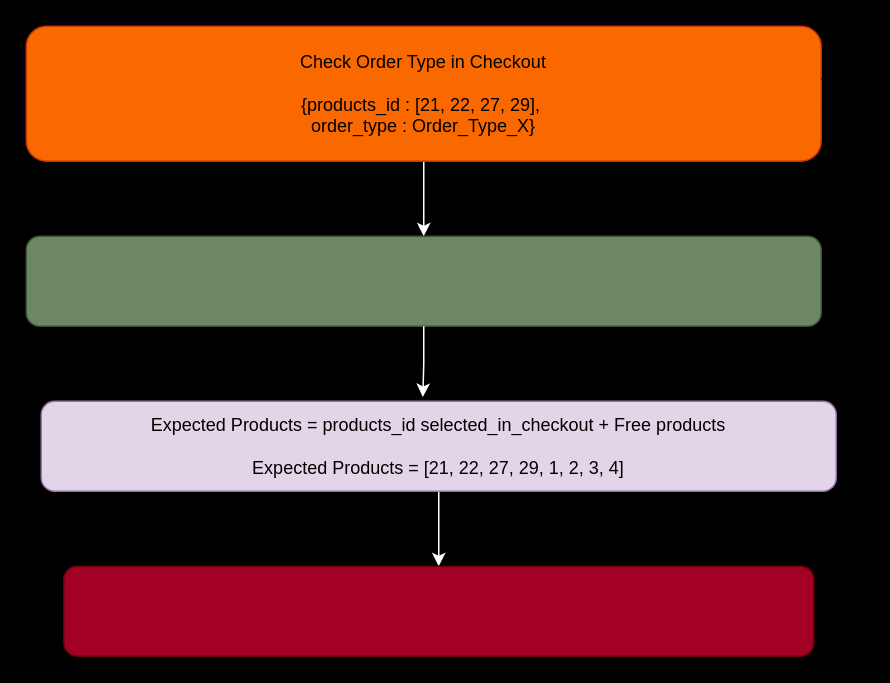
Image size: 890x683. Some labels were removed from this diagram. The centre of each missing label's shape, as x and y in pixels:
"Compare Expected products with billed/shipped products" belongs at [438,610].
"Link Order Type to Free products_id" belongs at [423,280].
